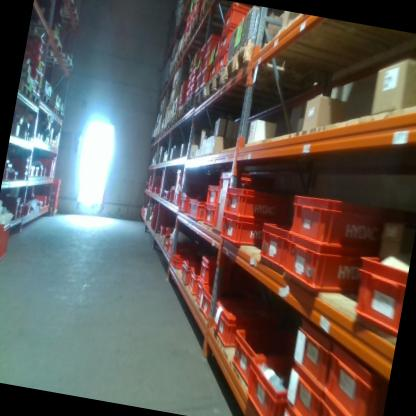pallet: (223, 34, 267, 91), (25, 20, 66, 56), (35, 44, 76, 73), (204, 61, 227, 104), (52, 5, 79, 27), (197, 0, 218, 23), (16, 77, 34, 102), (193, 81, 208, 110), (189, 4, 203, 35), (180, 26, 195, 54), (38, 87, 53, 111), (28, 88, 42, 109), (183, 93, 194, 119), (175, 102, 185, 123), (168, 107, 177, 129), (47, 104, 60, 119), (57, 109, 67, 121)
small_load_carrier: (283, 188, 398, 257), (206, 169, 284, 248), (276, 231, 361, 302), (344, 247, 409, 338), (319, 339, 391, 416), (208, 293, 278, 354), (285, 314, 337, 389), (239, 354, 290, 416), (220, 183, 291, 226), (225, 325, 270, 392), (277, 363, 329, 416), (217, 215, 277, 253), (255, 218, 294, 276), (193, 249, 236, 290), (218, 2, 256, 41), (169, 166, 193, 207), (319, 401, 378, 416), (0, 217, 14, 267), (197, 286, 218, 319), (177, 258, 198, 289), (202, 177, 223, 208), (184, 196, 208, 222), (217, 25, 233, 59), (164, 236, 191, 256), (279, 404, 319, 416), (202, 31, 218, 61), (207, 36, 221, 70), (25, 33, 46, 55), (185, 268, 202, 295), (195, 42, 207, 77), (175, 78, 188, 110), (193, 284, 207, 312), (200, 49, 215, 75), (200, 204, 219, 223), (217, 48, 229, 74), (175, 189, 189, 210), (171, 250, 188, 267), (208, 60, 219, 86), (5, 193, 20, 212), (155, 221, 167, 244), (24, 50, 44, 63), (15, 153, 32, 167), (4, 210, 20, 222), (201, 68, 210, 88), (38, 156, 56, 166), (192, 49, 201, 68), (160, 185, 172, 199), (193, 76, 201, 96), (16, 160, 30, 171), (27, 68, 38, 81), (14, 172, 27, 183), (22, 203, 32, 217), (29, 61, 42, 70), (38, 60, 47, 73), (45, 169, 54, 180), (51, 179, 61, 186), (19, 200, 24, 209)
